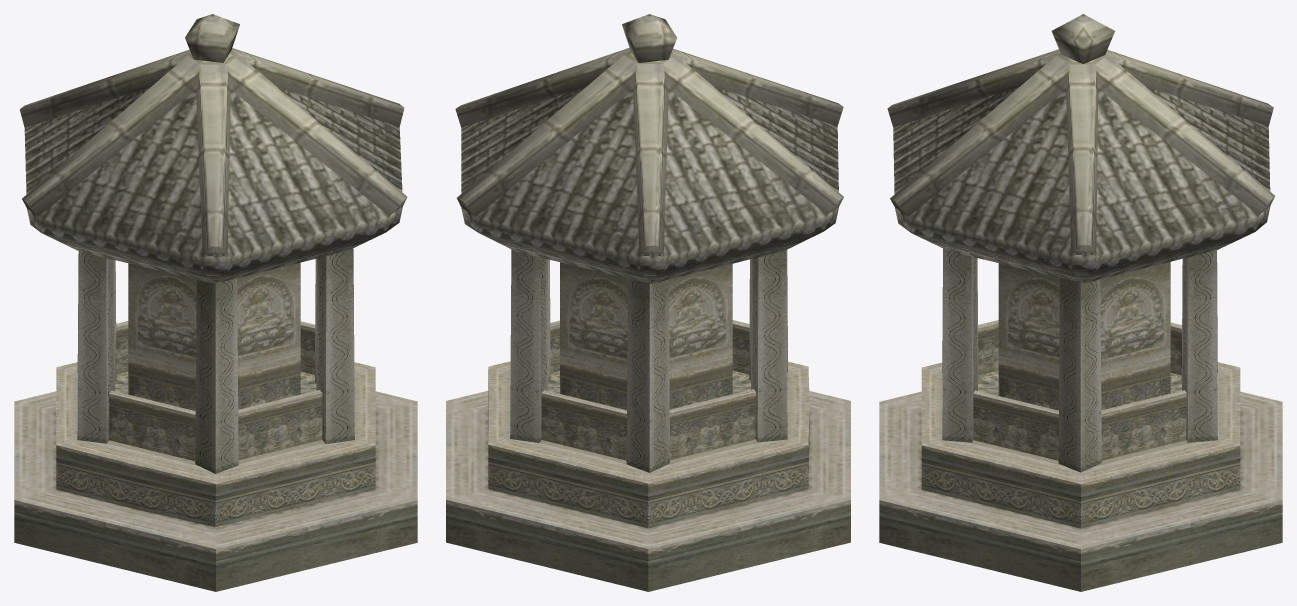
Rendered from Youshuizhou_zhiwu_080.FBX.
3 views of the same model, side by side, from view 1: azimuth 30°, elevation 25°; view 2: azimuth 150°, elevation 25°; view 3: azimuth 270°, elevation 25° (orthographic).
Parts seen in each view (by area): view 1: Cylinder04tiongzi; view 2: Cylinder04tiongzi; view 3: Cylinder04tiongzi.
Part boxes in pixels (left/top/right/bottom): Cylinder04tiongzi: left=14, top=14, right=417, bottom=591; Cylinder04tiongzi: left=446, top=14, right=850, bottom=591; Cylinder04tiongzi: left=879, top=14, right=1282, bottom=591.
Bounding box in the file's own units: 211 × 239 × 183.
Materials: 1 (1 with a texture image).
